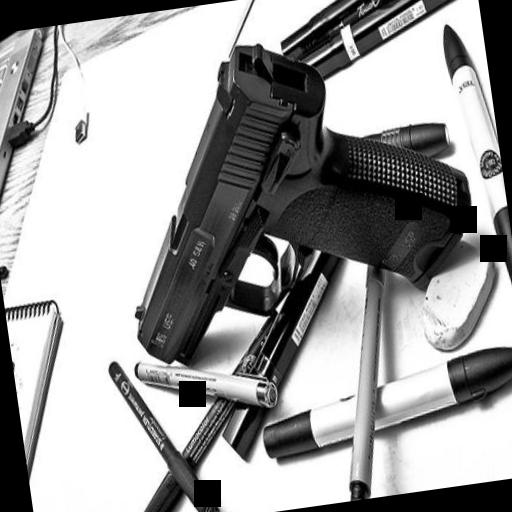Handgun: (93, 12, 488, 374)
